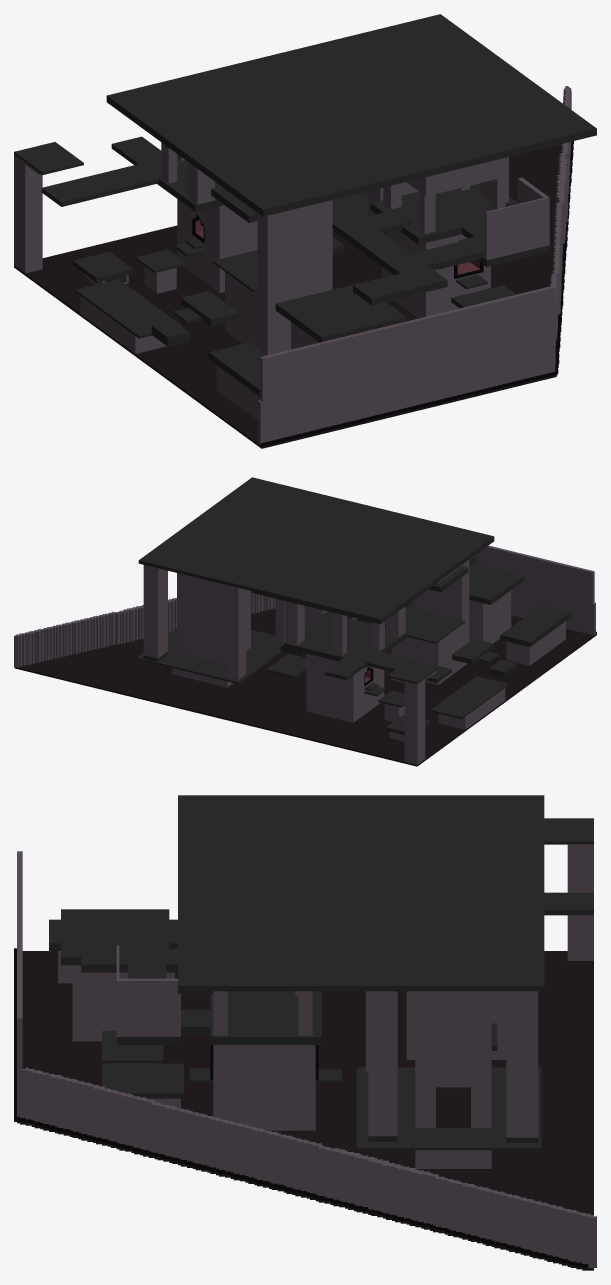
File: Mapa-4.obj
3 renders of one model, top to bottom at view 1: azimuth 30°, elevation 25°; view 2: azimuth 150°, elevation 25°; view 3: azimuth 270°, elevation 25°, orthographic. The views are drawn at different scales.
Size of the model in its own units: 25.6 by 7.5 by 19.9.
Materials: 1 (1 with a texture image).
